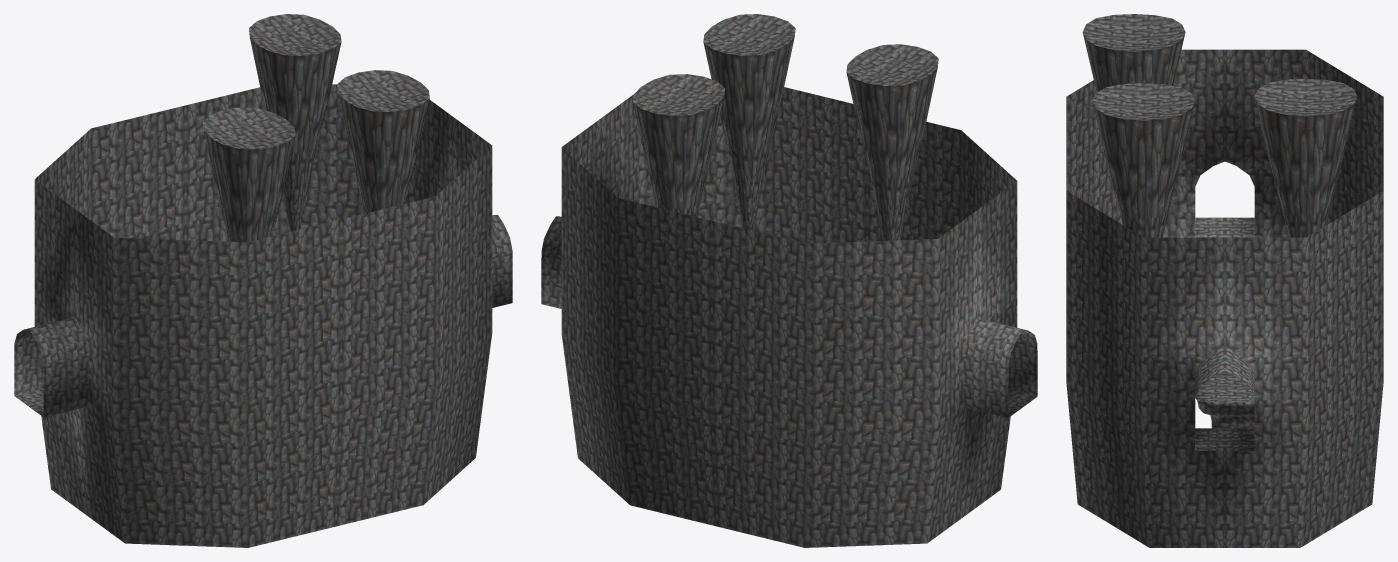
The model's file is Cave.FBX.
3 renders of one model, left to right at view 1: azimuth 30°, elevation 25°; view 2: azimuth 150°, elevation 25°; view 3: azimuth 270°, elevation 25°, orthographic. The views are drawn at different scales.
Visible parts, largest first — view 1: Plane001; view 2: Plane001; view 3: Plane001, Box001.
Part boxes in pixels (x1,y1,x2,y2): Plane001: (14,14,512,547); Plane001: (541,14,1037,547); Plane001: (1066,14,1383,547); Box001: (1195,372,1254,428).
Size of the model in its own units: 287 by 229 by 165.
Materials: 1 (1 with a texture image).
